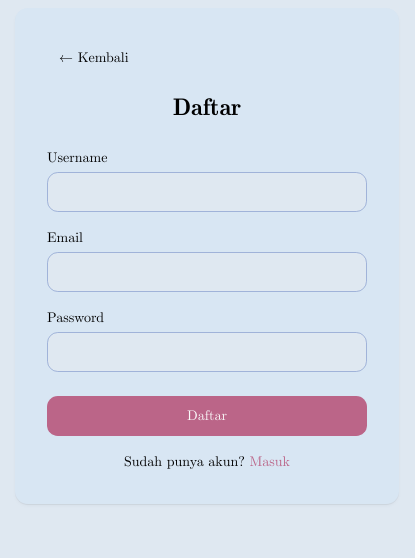
Scenario: RegisterPage › validasi client-side › menampilkan error ketika semua field kosong
The width and height of the screenshot is (415, 558).
Click the button "Daftar" at (207, 416), box left=47, top=396, right=367, bottom=436
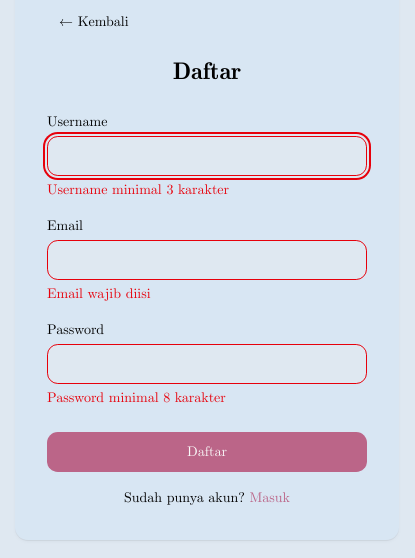
Check: the text "Username minimal 3 karakter" is shown, box left=47, top=183, right=229, bottom=197
Check: the text "Email wajib diisi" is shown, box left=47, top=287, right=151, bottom=301
Check: the text "Password minimal 8 karakter" is shown, box left=47, top=391, right=226, bottom=405
